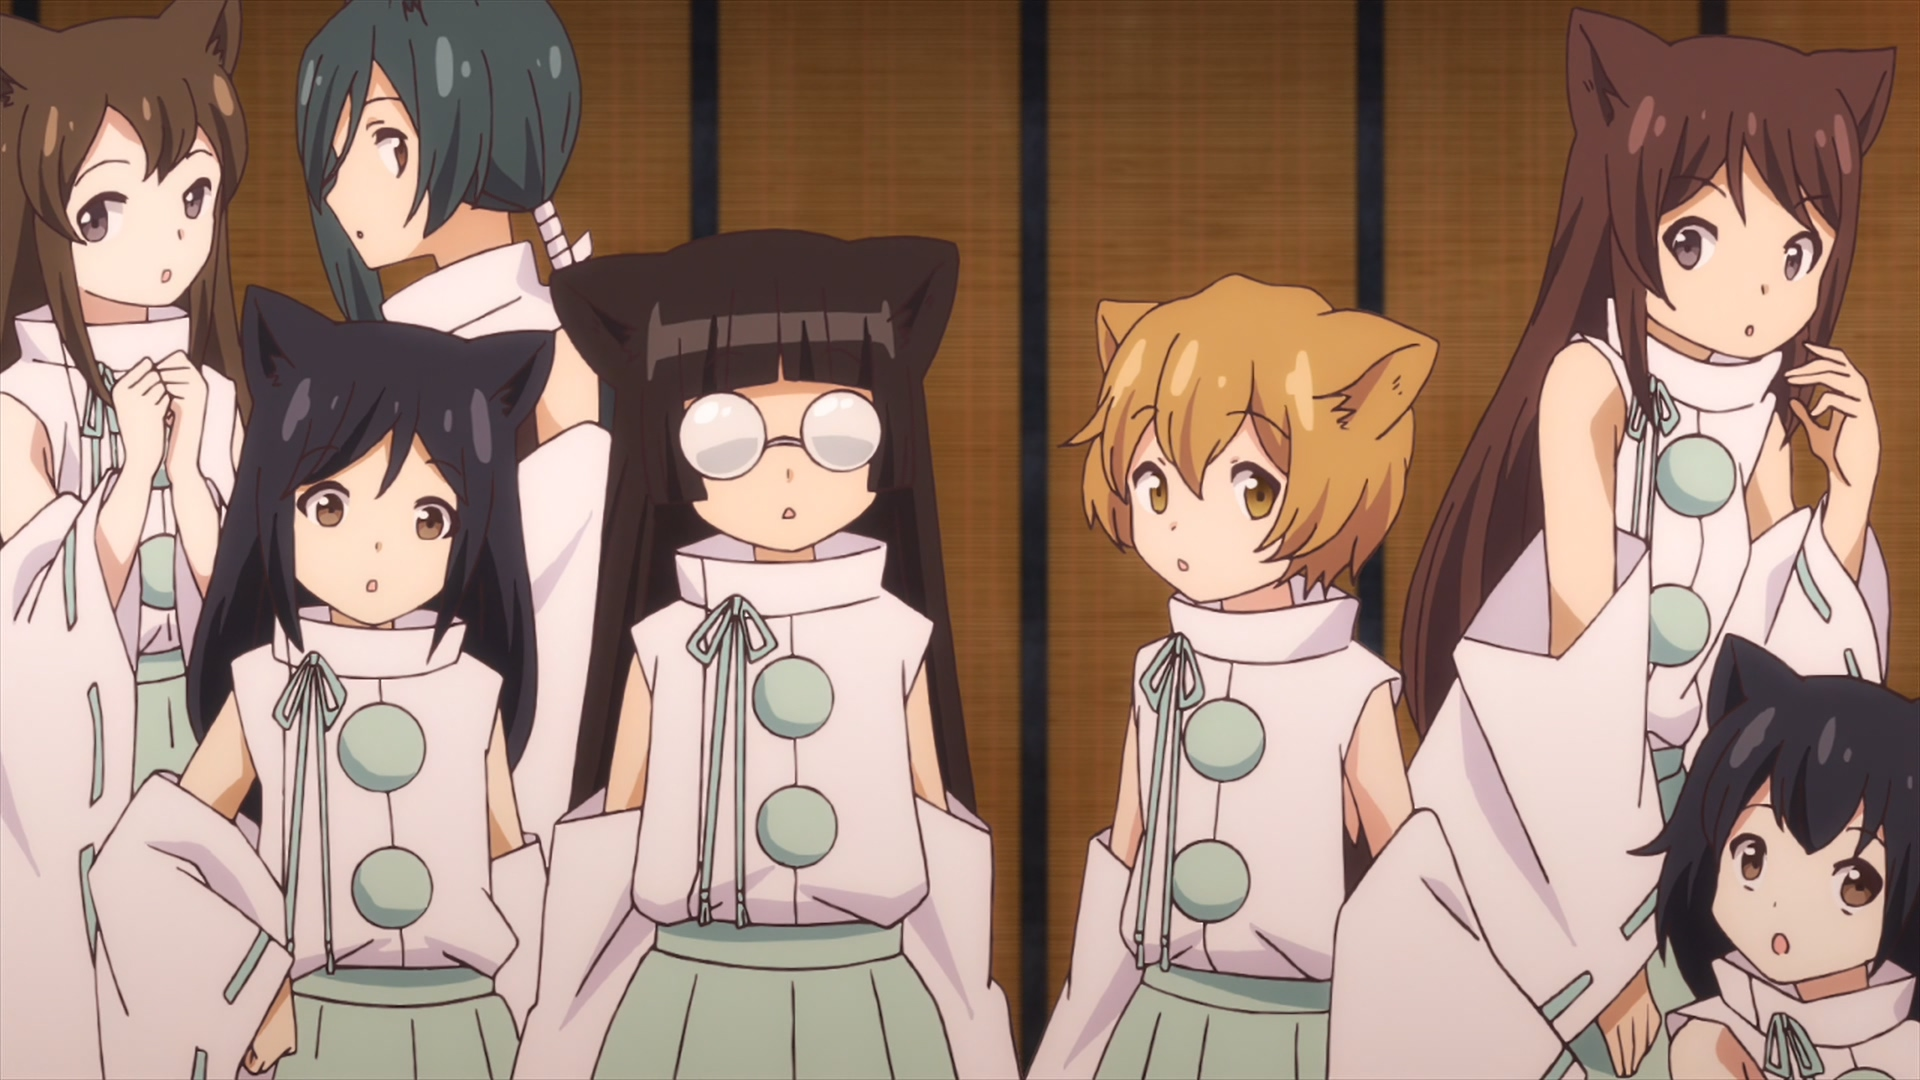其他: (1402, 11, 1888, 1080), (508, 228, 1015, 1080), (88, 286, 556, 1080), (1025, 276, 1439, 1080), (294, 1, 609, 872), (1, 1, 255, 1080), (1627, 636, 1920, 1080)
